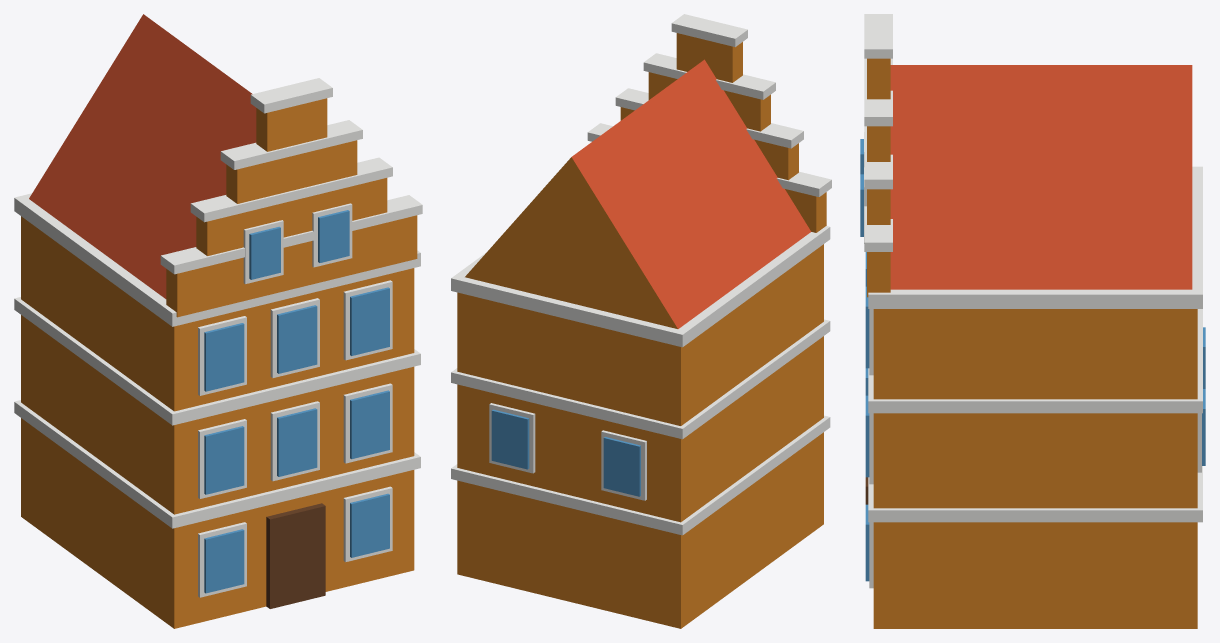
Rendered from 13_stepped_gable_1.obj.
The picture shows the model from 3 angles, left to right: view 1: azimuth 30°, elevation 25°; view 2: azimuth 150°, elevation 25°; view 3: azimuth 270°, elevation 25°; orthographic projection. The views are drawn at different scales.
Parts seen in each view (by area): view 1: 13_stepped_gable_1; view 2: 13_stepped_gable_1; view 3: 13_stepped_gable_1.
Part boxes in pixels (box(x1,y1,x2,y2)): 13_stepped_gable_1: box(14, 14, 422, 628); 13_stepped_gable_1: box(451, 14, 831, 628); 13_stepped_gable_1: box(860, 14, 1205, 628).
Bounding box in the file's own units: 1.16 × 2.26 × 1.32.
